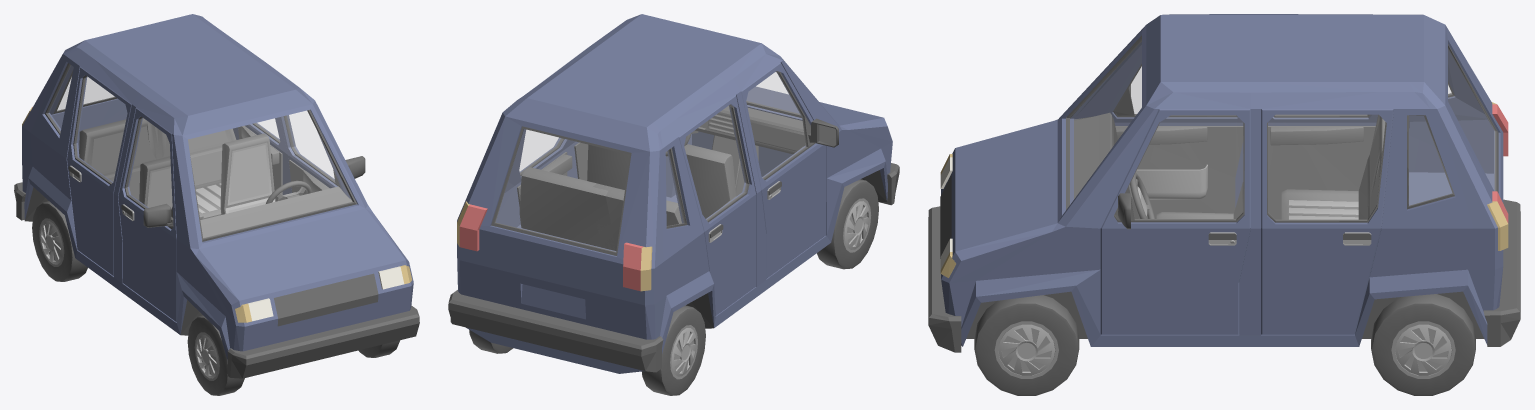
3 views of the same model, side by side, from view 1: azimuth 30°, elevation 25°; view 2: azimuth 150°, elevation 25°; view 3: azimuth 270°, elevation 25° (orthographic). The views are drawn at different scales.
Parts seen in each view (by area): view 1: Chassis_Chassis_0, Windows_Windows_0, Chassis_Bumpers_0, Interior_InteriorPanel_0, FR_Door_Chassis_0, RR_Door_Chassis_0, Interior_Handler_0, RR_Door_Windows_0, FR_Door_Windows_0, RR_Wheel_Tire_0, FR_Wheel_Tire_0, FL_Door_Windows_0 (+13 smaller); view 2: Chassis_Chassis_0, Interior_InteriorPanel_0 (×2), Windows_Windows_0, Chassis_Bumpers_0, FR_Door_Chassis_0, RR_Door_Chassis_0, RR_Door_Windows_0, FR_Door_Windows_0, FR_Wheel_Tire_0, RR_Wheel_Tire_0, Brake_Lights_Brake_lights_0, FR_Door_Bumpers_0 (+11 smaller); view 3: Chassis_Chassis_0, FL_Door_Chassis_0, RL_Door_Chassis_0, RL_Door_Windows_0, Windows_Windows_0, FL_Door_Windows_0, Chassis_Bumpers_0, RR_Door_InteriorPanel_0, FR_Door_InteriorPanel_0, RL_Wheel_Tire_0, FL_Wheel_Tire_0, Interior_InteriorPanel_0 (+14 smaller).
Part boxes in pixels (left/top/right/bottom): Chassis_Chassis_0: left=22, top=14, right=413, bottom=360; Windows_Windows_0: left=48, top=65, right=352, bottom=237; Chassis_Bumpers_0: left=14, top=63, right=419, bottom=378; Interior_InteriorPanel_0: left=79, top=118, right=352, bottom=237; FR_Door_Chassis_0: left=118, top=108, right=176, bottom=321; RR_Door_Chassis_0: left=67, top=67, right=131, bottom=276; Interior_Handler_0: left=147, top=142, right=274, bottom=213; RR_Door_Windows_0: left=76, top=77, right=126, bottom=182; FR_Door_Windows_0: left=127, top=118, right=171, bottom=207; RR_Wheel_Tire_0: left=32, top=201, right=87, bottom=281; FR_Wheel_Tire_0: left=187, top=315, right=244, bottom=395; FL_Door_Windows_0: left=286, top=111, right=334, bottom=180; Chassis_Chassis_0: left=457, top=14, right=892, bottom=373; Interior_InteriorPanel_0 (×2): left=519, top=105, right=805, bottom=250; Windows_Windows_0: left=495, top=73, right=798, bottom=251; Chassis_Bumpers_0: left=448, top=101, right=899, bottom=372; FR_Door_Chassis_0: left=741, top=62, right=826, bottom=278; RR_Door_Chassis_0: left=678, top=95, right=756, bottom=315; RR_Door_Windows_0: left=685, top=106, right=746, bottom=219; FR_Door_Windows_0: left=747, top=73, right=805, bottom=177; FR_Wheel_Tire_0: left=817, top=179, right=878, bottom=269; RR_Wheel_Tire_0: left=642, top=305, right=705, bottom=395; Brake_Lights_Brake_lights_0: left=459, top=204, right=643, bottom=291; FR_Door_Bumpers_0: left=762, top=71, right=838, bottom=197; Chassis_Chassis_0: left=941, top=14, right=1503, bottom=346; FL_Door_Chassis_0: left=1100, top=109, right=1250, bottom=334; RL_Door_Chassis_0: left=1261, top=109, right=1393, bottom=334; RL_Door_Windows_0: left=1268, top=115, right=1384, bottom=219; Windows_Windows_0: left=1069, top=41, right=1495, bottom=205; FL_Door_Windows_0: left=1130, top=116, right=1242, bottom=218; Chassis_Bumpers_0: left=928, top=35, right=1520, bottom=352; RR_Door_InteriorPanel_0: left=1268, top=126, right=1375, bottom=219; FR_Door_InteriorPanel_0: left=1115, top=126, right=1243, bottom=218; RL_Wheel_Tire_0: left=1371, top=294, right=1475, bottom=395; FL_Wheel_Tire_0: left=974, top=295, right=1079, bottom=395; Interior_InteriorPanel_0: left=1074, top=112, right=1385, bottom=219.
Bounding box in the file's own units: 5.14 × 5.15 × 9.39.
